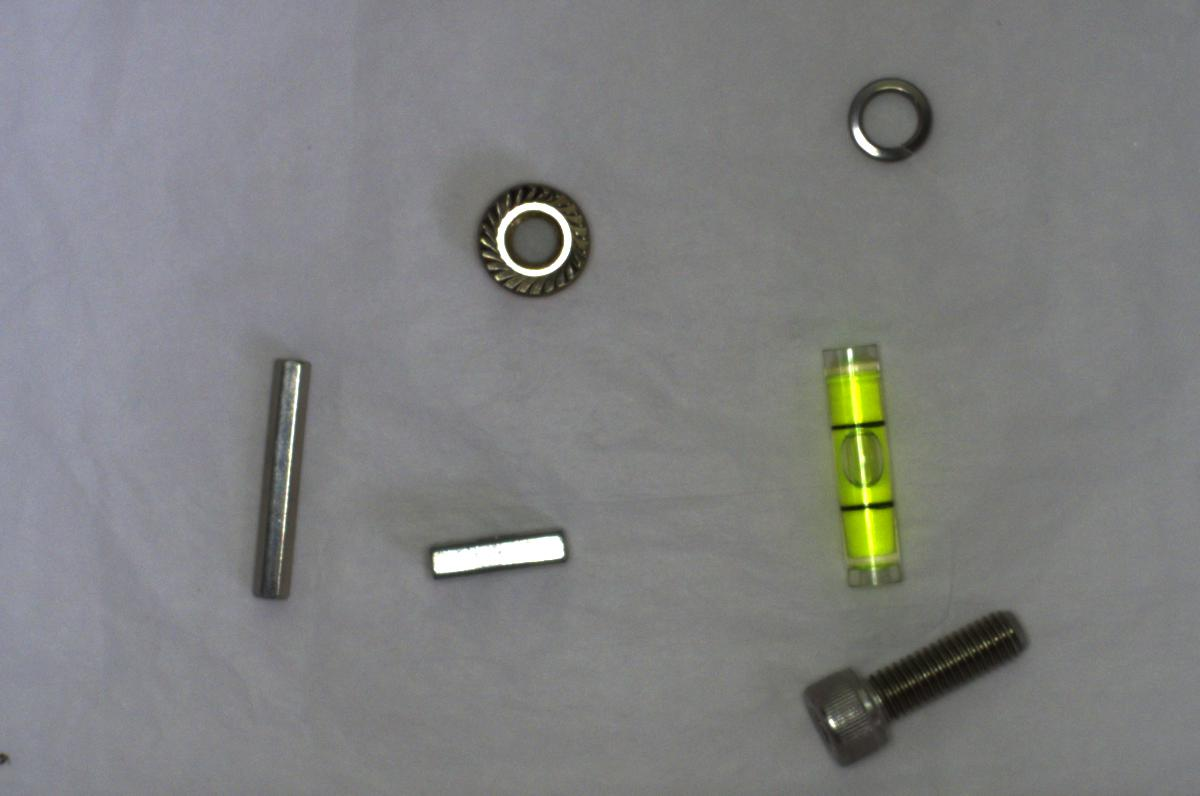Double hexagonal column: (238, 349, 326, 602)
Flange nut: (464, 172, 608, 300)
Hexagon screw: (790, 606, 1037, 761)
Horizontal bubble: (808, 329, 911, 593)
Rectangular nut: (415, 521, 581, 590)
Spring washer: (838, 69, 938, 172)
